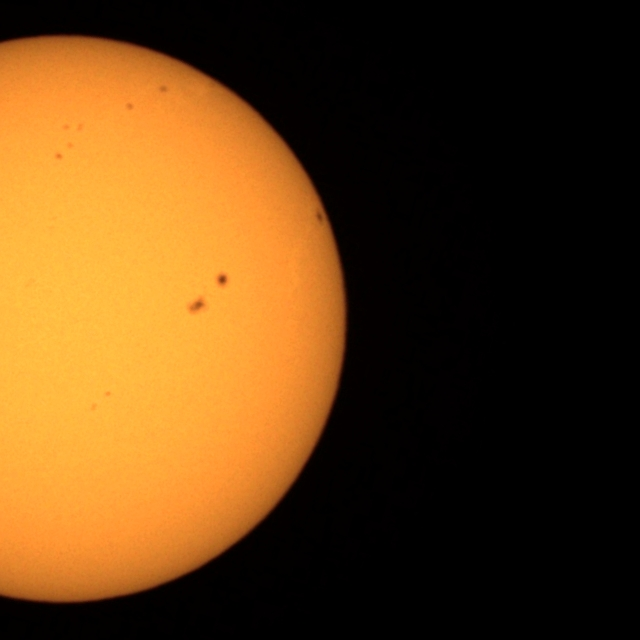sunspot: (88, 390, 113, 413), (186, 296, 208, 316), (313, 208, 326, 230), (215, 272, 230, 289), (88, 400, 99, 413), (124, 101, 135, 113), (158, 84, 170, 95), (54, 152, 64, 162), (104, 390, 112, 397)
